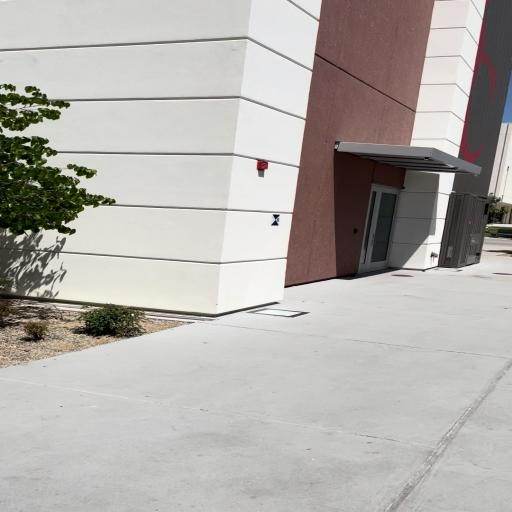target6: (271, 215, 281, 226)
